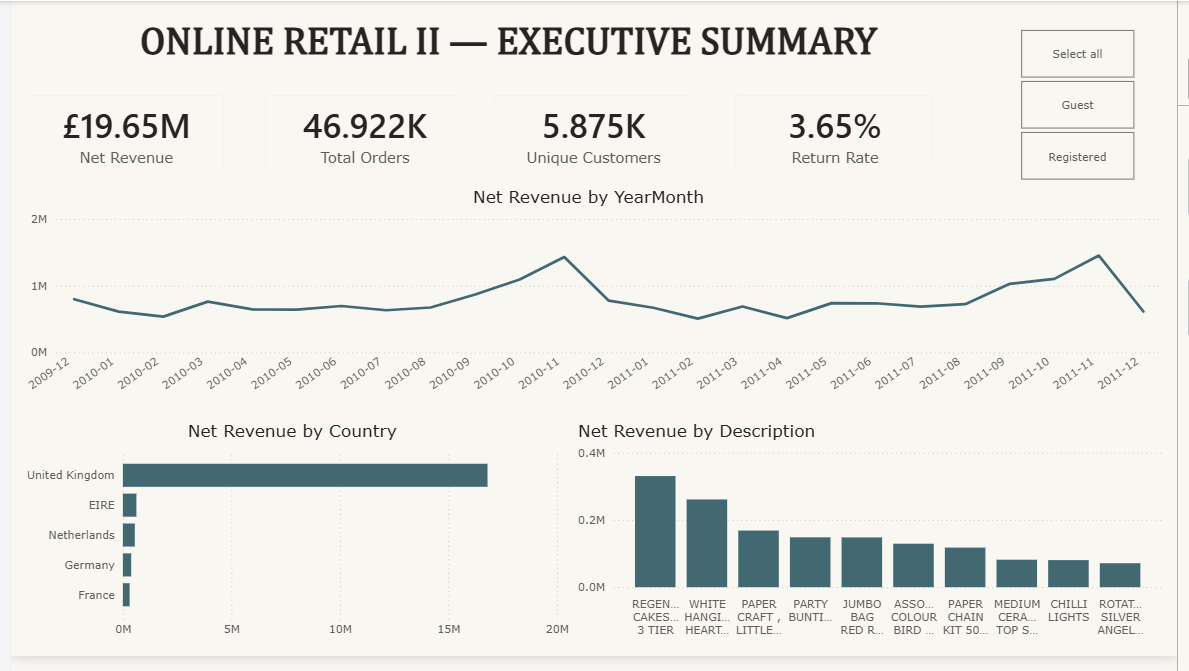

The dashboard page shown, as its layout file describes it:
{"tool":"powerbi","page":{"name":"EXECUTIVE SUMMARY ","canvas":[1280,720],"ordinal":0},"visuals":[{"type":"textbox","box":[9.6,17.8,1073.1,68.6],"z":0},{"type":"cardVisual","fields":{"Data":["sales.Net Revenue"]},"box":[0,86.4,251.1,116.6],"z":1000},{"type":"cardVisual","fields":{"Data":["sales.Total Orders"]},"box":[262.1,86.4,251.1,116.6],"z":2000},{"type":"cardVisual","fields":{"Data":["sales.Unique Customers"]},"box":[513.2,86.4,251.1,116.6],"z":3000},{"type":"cardVisual","fields":{"Data":["sales.Return Rate"]},"box":[778,86.4,251.1,116.6],"z":4000},{"type":"lineChart","fields":{"Category":["sales.YearMonth"],"Y":["sales.Net Revenue"]},"box":[0,203.1,1267.9,247],"z":5000},{"type":"barChart","fields":{"Category":["sales.Country"],"Y":["sales.Net Revenue"]},"box":[0,459.7,617.5,247],"z":6000},{"type":"columnChart","fields":{"Category":["sales.Description"],"Y":["sales.Net Revenue"]},"box":[617,460,651,247],"z":7000},{"type":"slicer","fields":{"Values":["sales.CustomerType"]},"box":[1082.7,24.7,174.3,178.4],"z":8000}]}

Visuals, with their boxes in screenshot pixels (x1, y1, x2, y2), scaled from the page's 1280x720 canvas onto the 1189x671 screenshot:
textbox: region(9, 17, 1006, 81)
cardVisual - sales.Net Revenue: region(0, 81, 233, 189)
cardVisual - sales.Total Orders: region(243, 81, 477, 189)
cardVisual - sales.Unique Customers: region(477, 81, 710, 189)
cardVisual - sales.Return Rate: region(723, 81, 956, 189)
lineChart - sales.YearMonth x sales.Net Revenue: region(0, 189, 1178, 419)
barChart - sales.Country x sales.Net Revenue: region(0, 428, 574, 659)
columnChart - sales.Description x sales.Net Revenue: region(573, 429, 1178, 659)
slicer - sales.CustomerType: region(1006, 23, 1168, 189)
